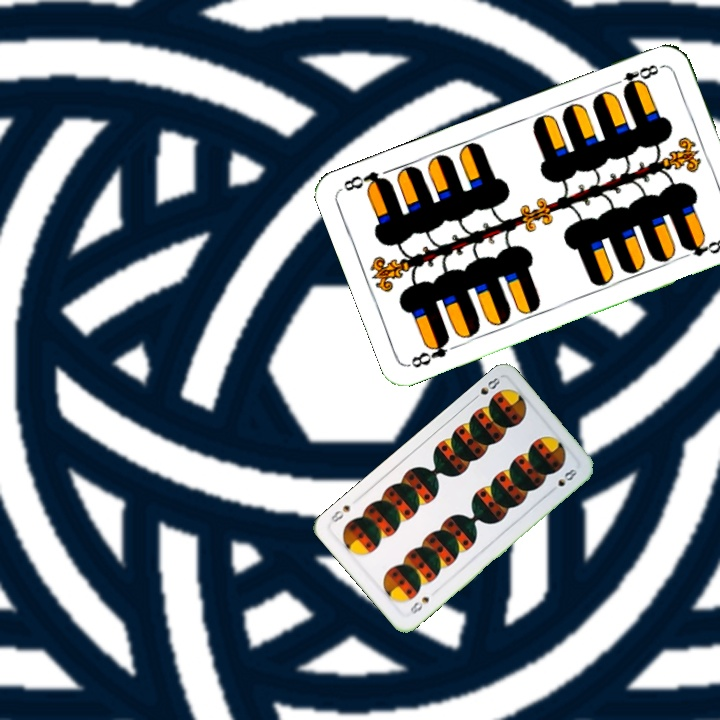E8: (608, 60, 665, 95), (405, 333, 452, 371)
S8: (468, 373, 503, 403), (406, 593, 432, 617)
